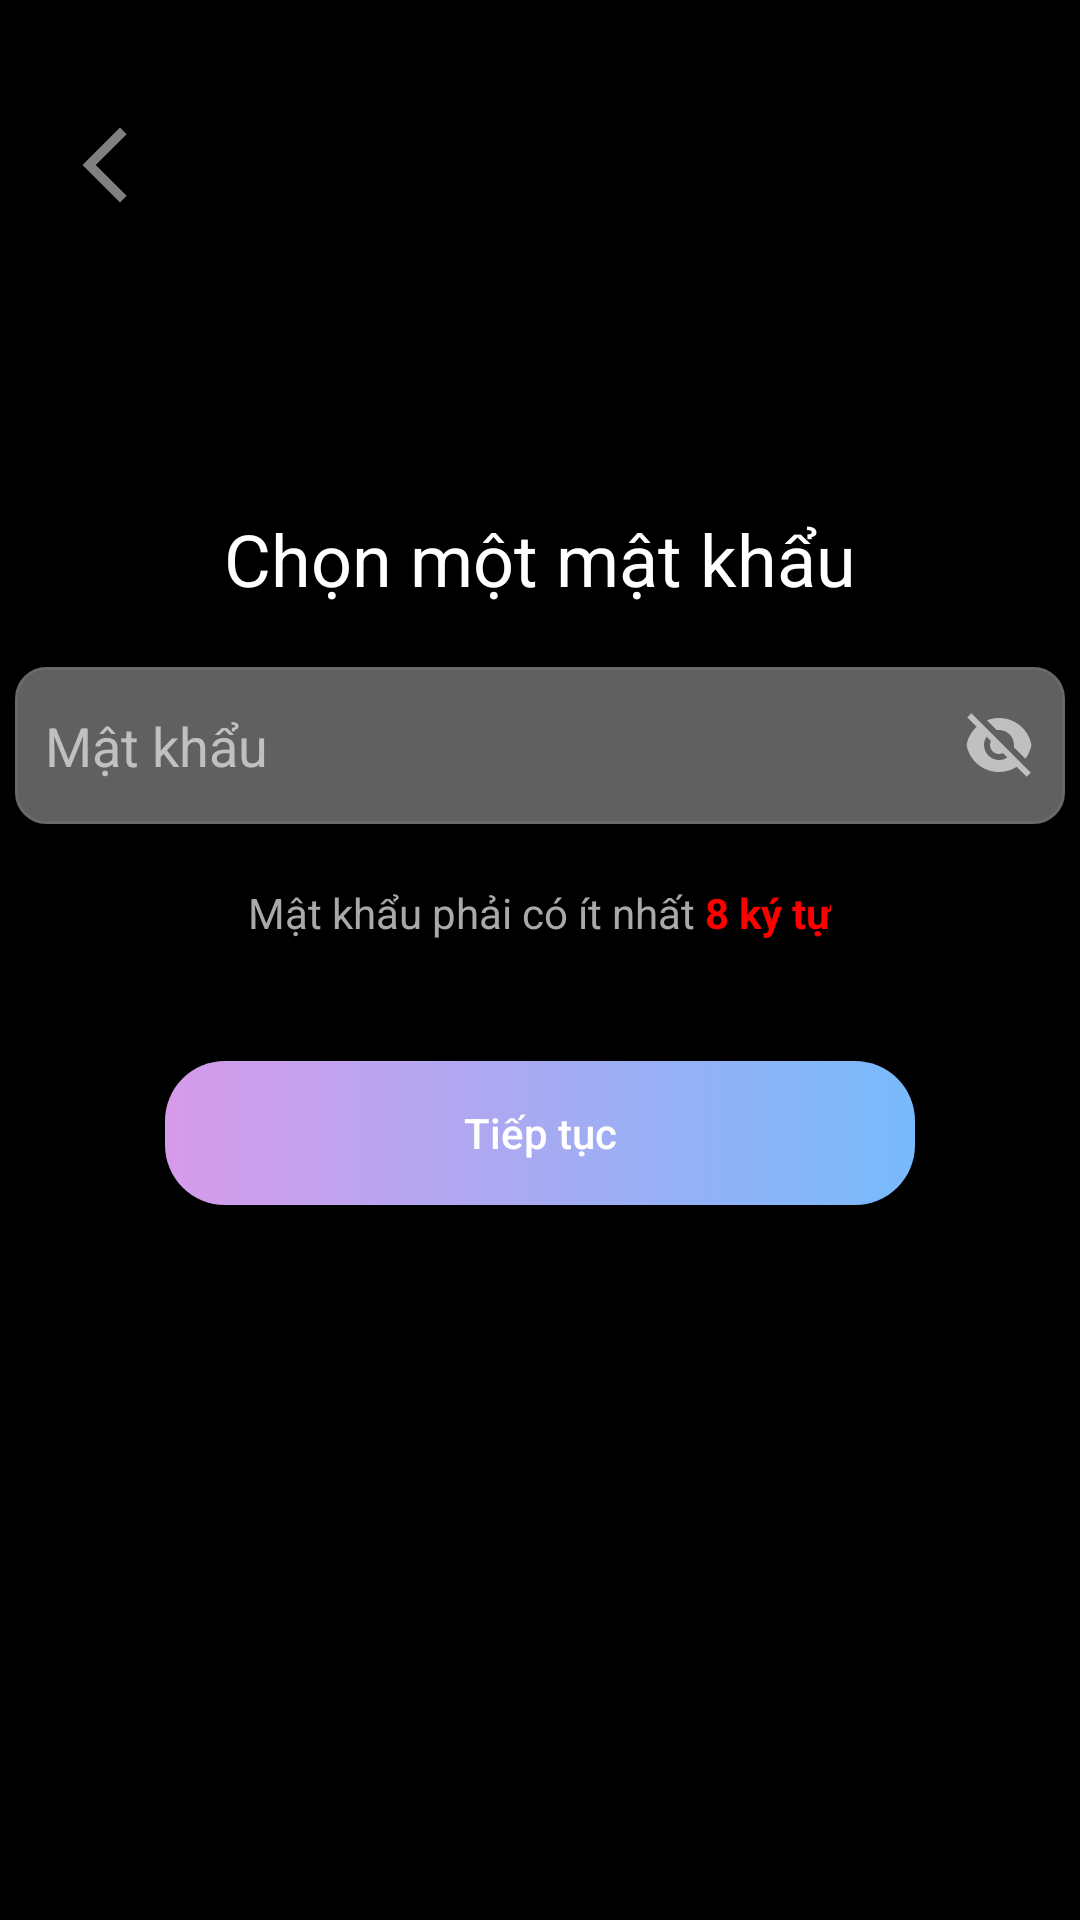

Named icons in this screenshot (1080x1920) and their centers, (x=x, y=y):
back: (x=105, y=165)
